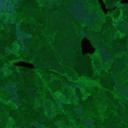alloviz: (78, 35, 95, 55), (11, 59, 36, 69), (97, 1, 109, 14), (118, 1, 128, 6)
